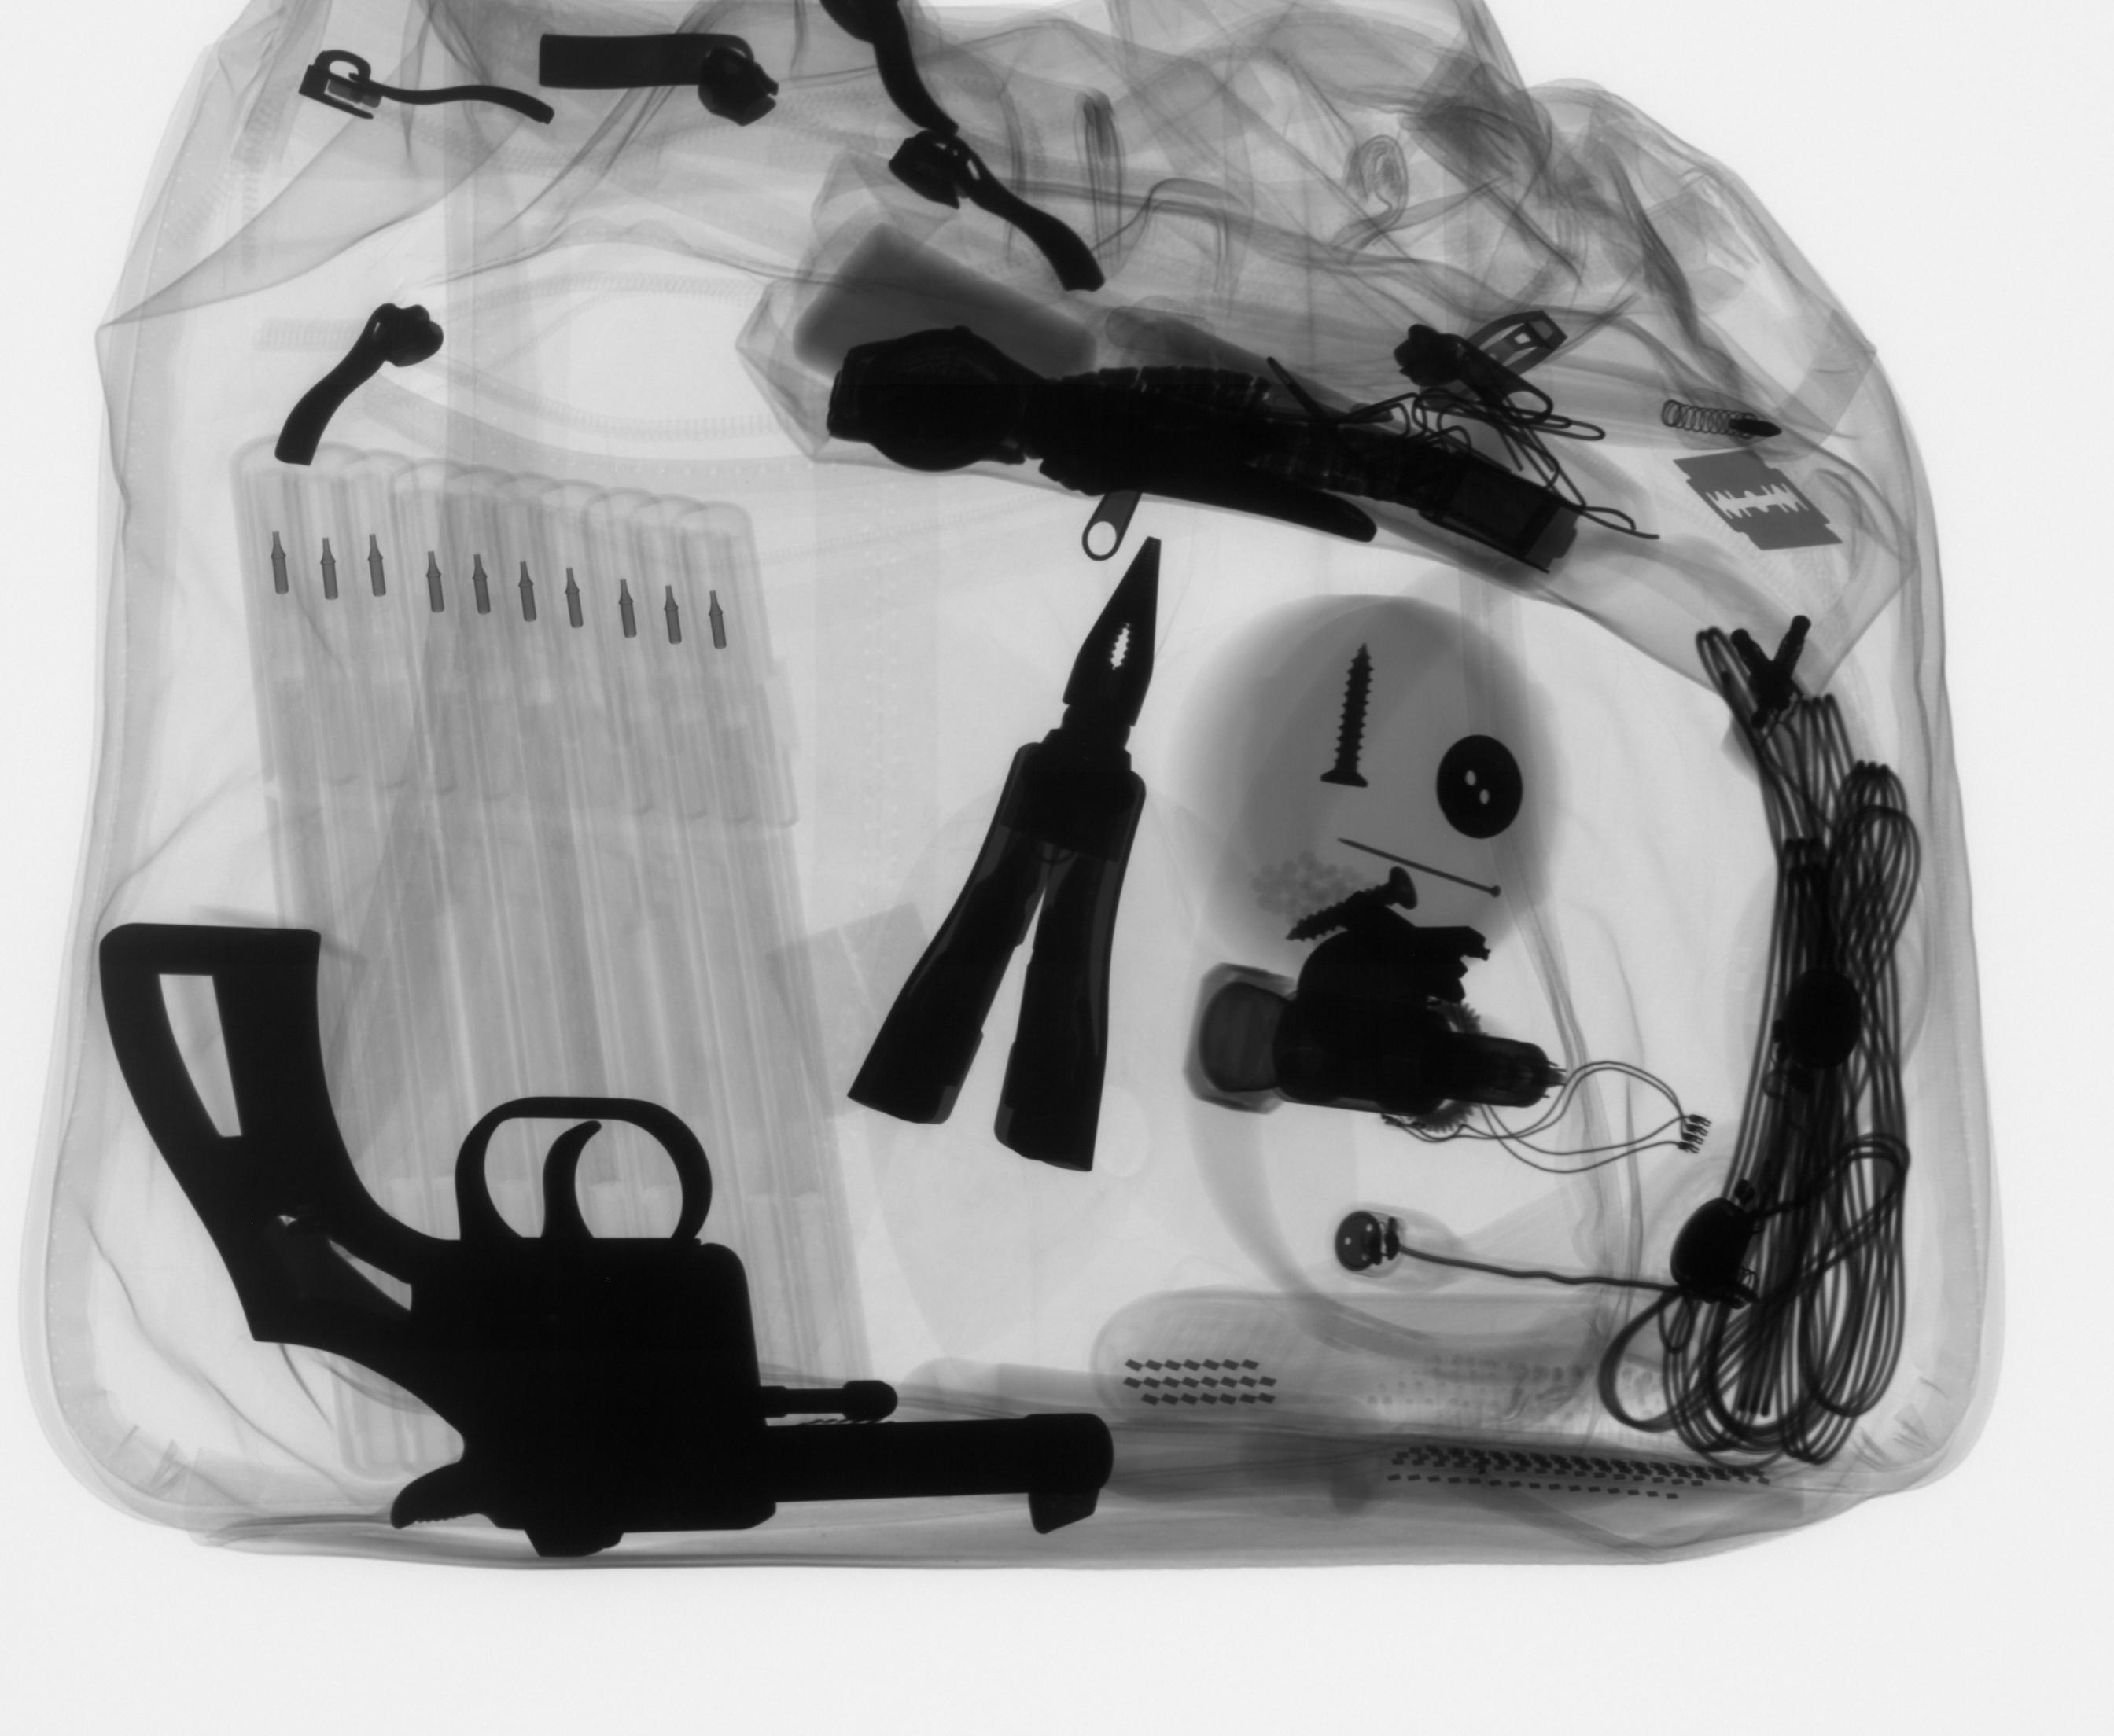Handgun: (90, 913, 1132, 1575)
RazorBlade: (1666, 446, 1850, 558)
